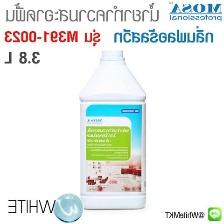cleaning_solution: (77, 45, 147, 212)
